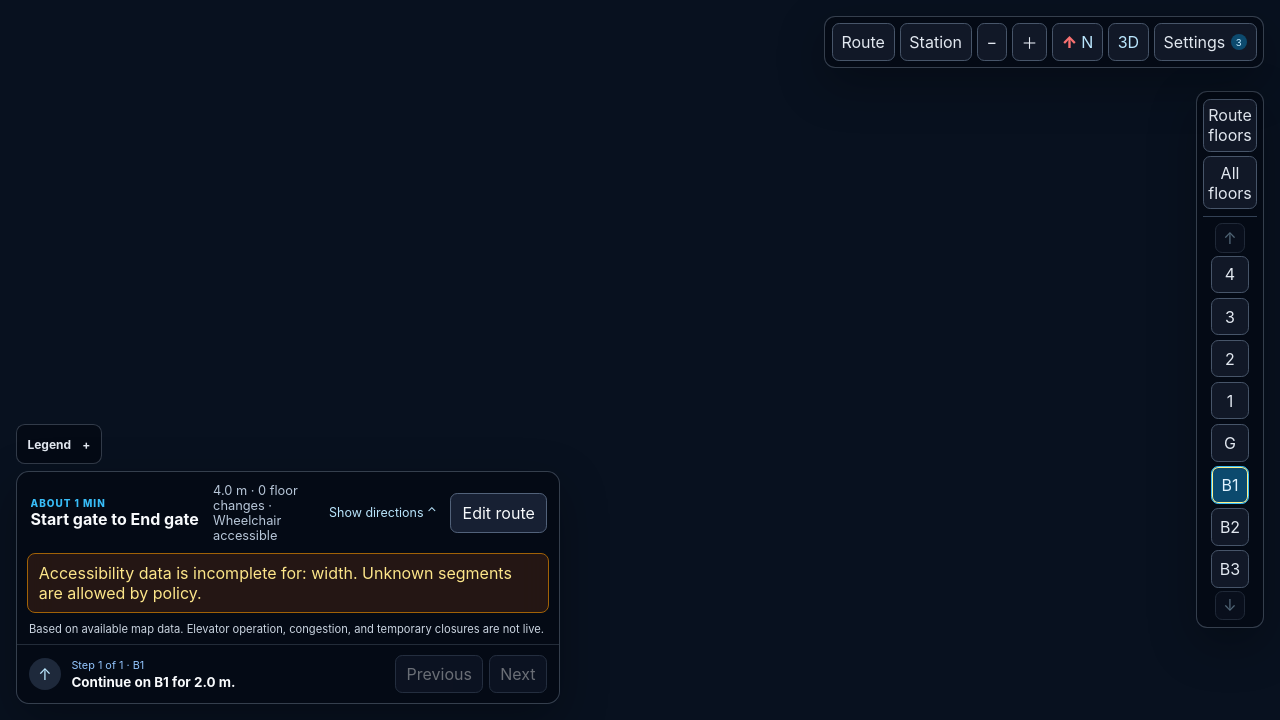
viewer controls › starts valid routes collapsed and reopens the planner on demand
Expected: the element "Start gate to End gate" is shown, [16,472,560,704]
What coordinates should you click on to do the following:
click the button "Edit route"
I would click on:
 (499, 513)
Its box is [450,493,547,533].
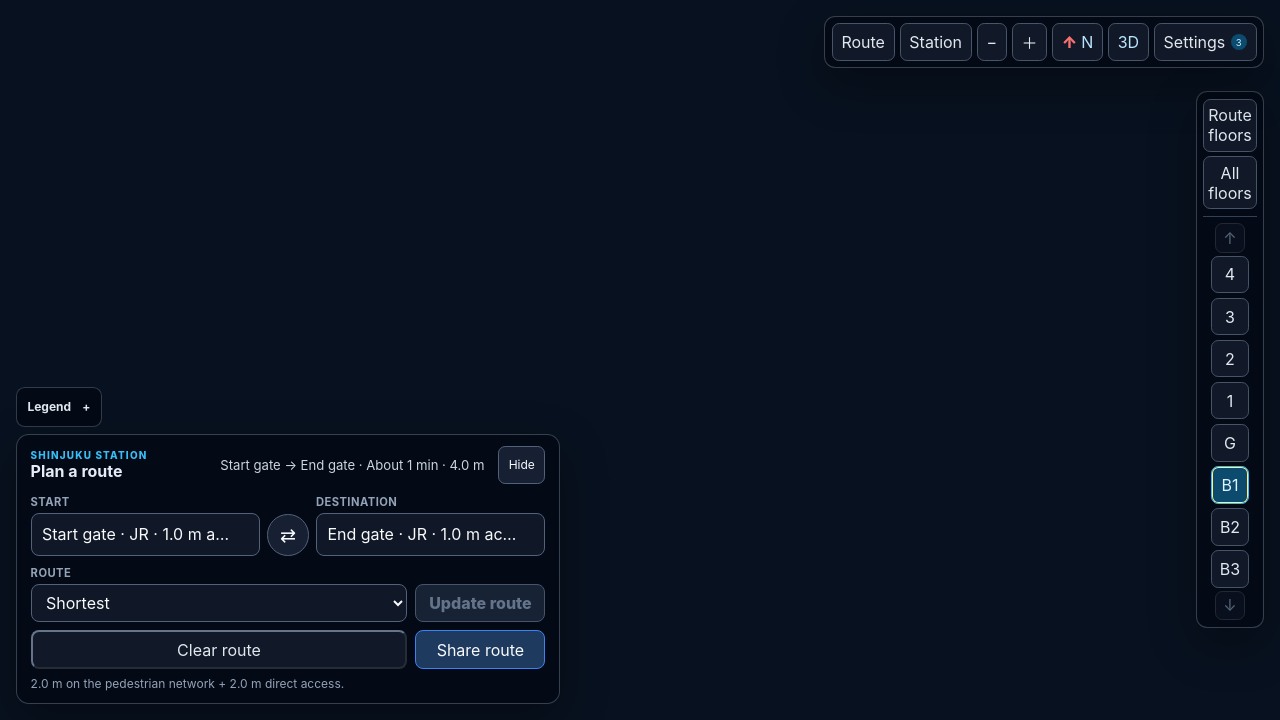
Now the dropdown named "Search start place" is shown, box [31,513,260,556]
Now the button "Start gate to End gate" is gone
What coordinates should you click on to do the following:
click the button with aria-label "Hide planner"
I would click on:
 (522, 465)
Its box is [498,446,545,484].
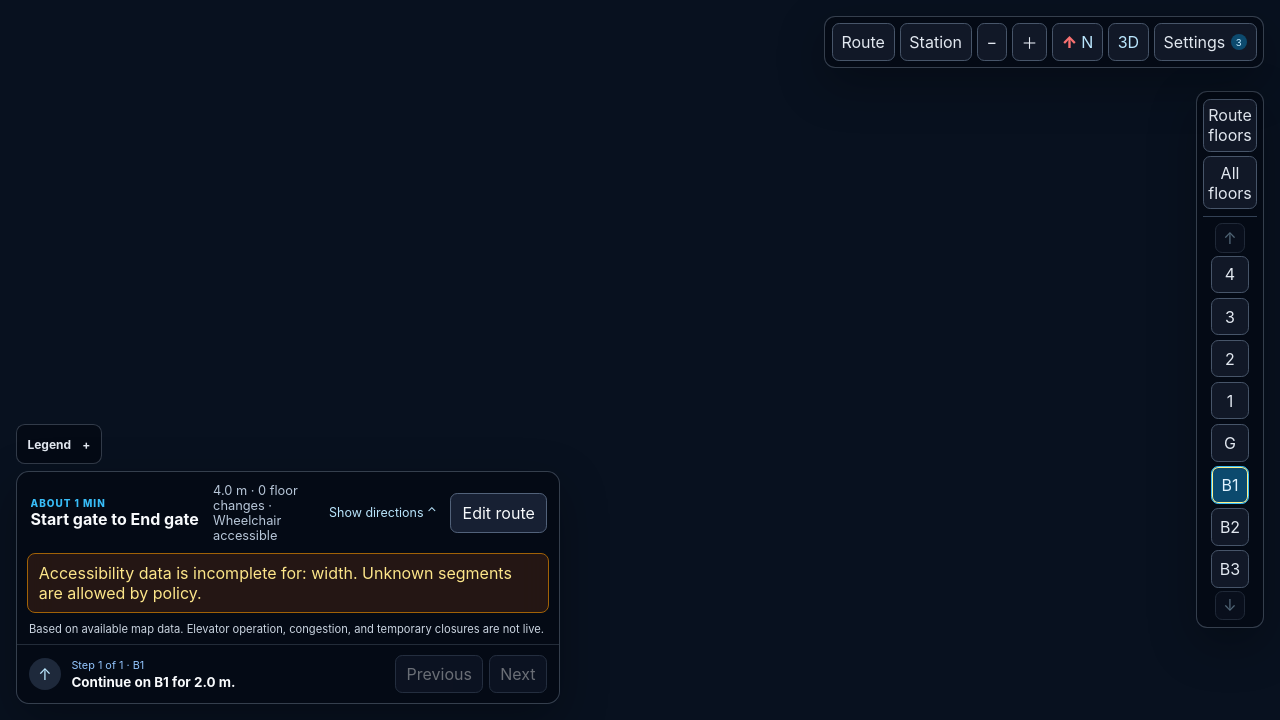
Now the element "Start gate to End gate" is shown, box [16,472,560,704]
